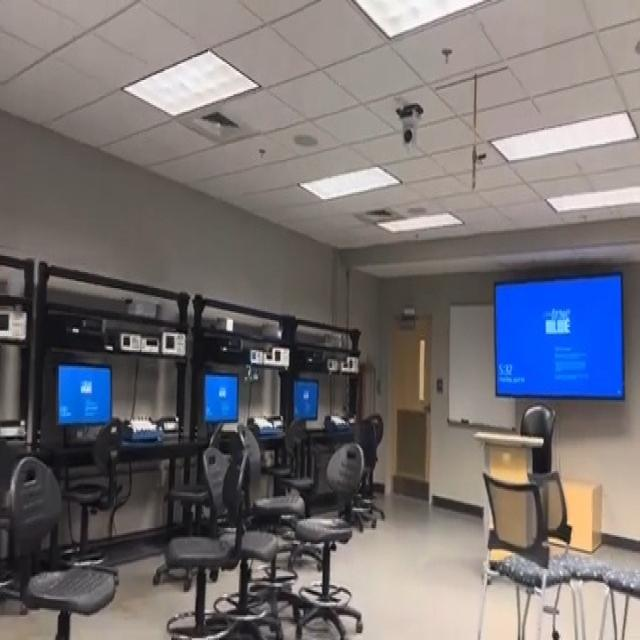drone: (237, 354, 264, 400)
